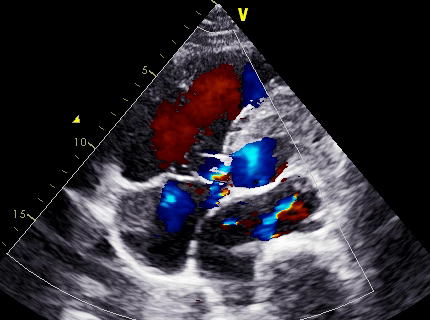TR: (160, 150, 235, 226)
